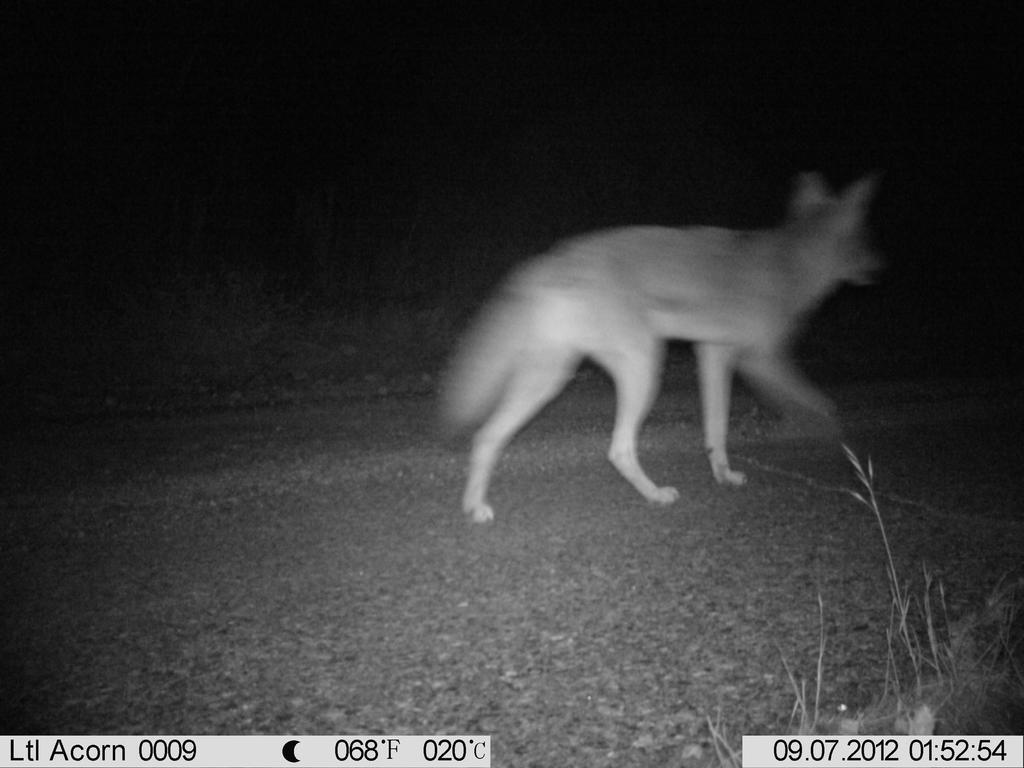coyote: (419, 165, 909, 523)
